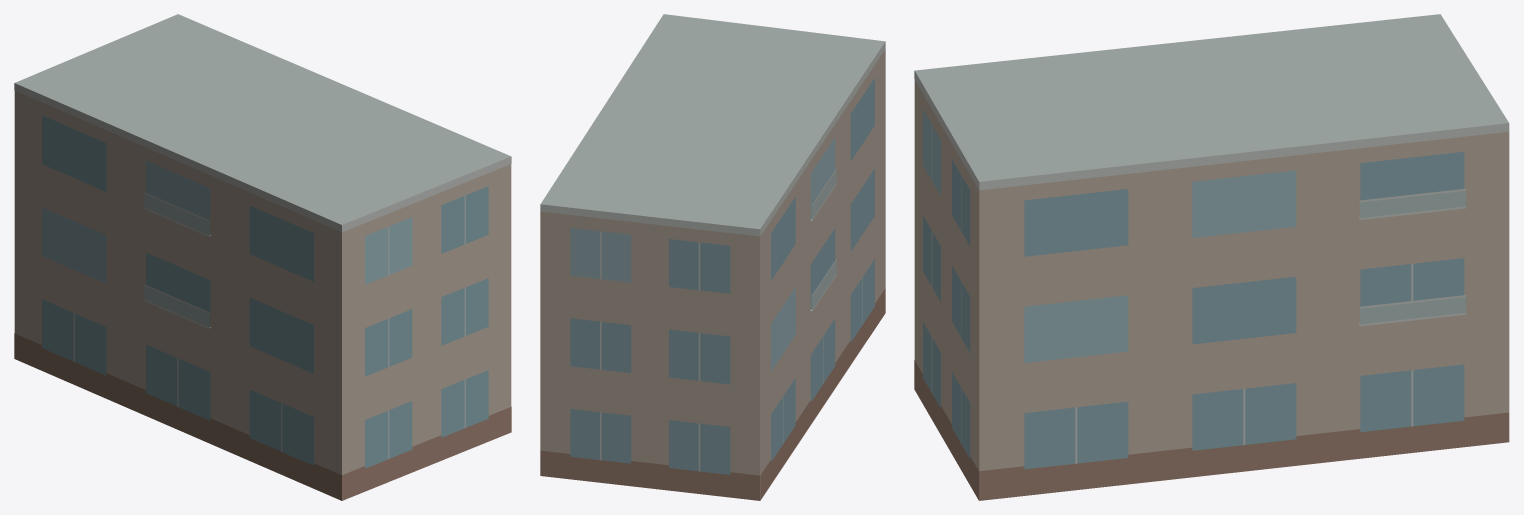
File: survey-upis-32569393.glb
3 views of the same model, side by side, from view 1: azimuth 30°, elevation 25°; view 2: azimuth 150°, elevation 25°; view 3: azimuth 270°, elevation 25° (orthographic). The views are drawn at different scales.
Visible parts, largest first — view 1: survey-upis-32569393.tmp; view 2: survey-upis-32569393.tmp; view 3: survey-upis-32569393.tmp.
Part boxes in pixels (left/top/right/bottom): survey-upis-32569393.tmp: left=14, top=14, right=511, bottom=500; survey-upis-32569393.tmp: left=540, top=14, right=885, bottom=500; survey-upis-32569393.tmp: left=914, top=14, right=1509, bottom=500.
Size of the model in its own units: 10.34 by 9.15 by 15.47.
